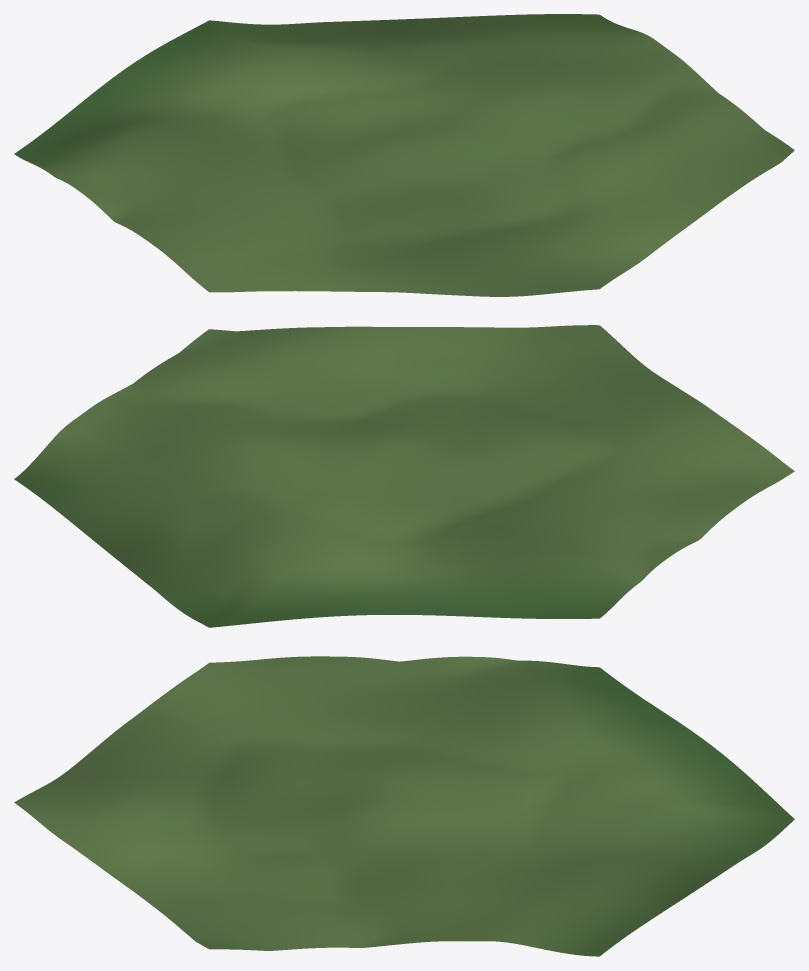
3 renders of one model, top to bottom at view 1: azimuth 30°, elevation 25°; view 2: azimuth 150°, elevation 25°; view 3: azimuth 270°, elevation 25°, orthographic.
Visible parts, largest first — view 1: JS_+0_11; view 2: JS_+0_11; view 3: JS_+0_11.
Part boxes in pixels (x1,y1,x2,y2): JS_+0_11: (14,14,794,296); JS_+0_11: (14,325,794,627); JS_+0_11: (14,656,794,956).
Size of the model in its own units: 4330 by 232 by 5000.
